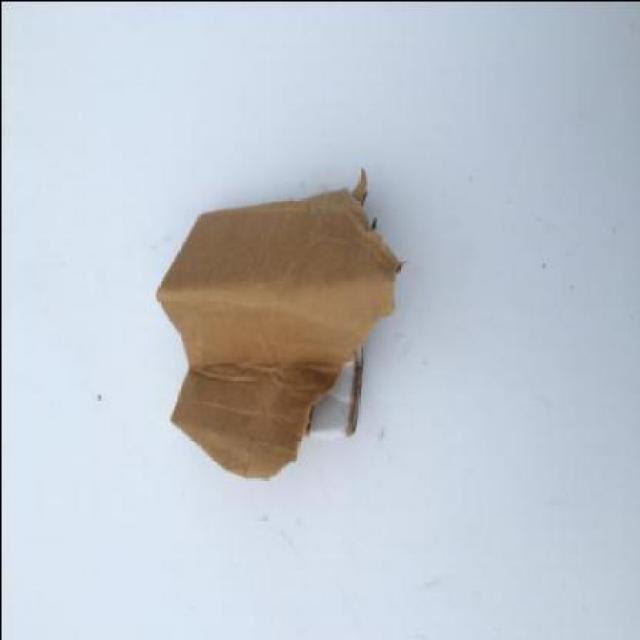box: (154, 169, 397, 480)
